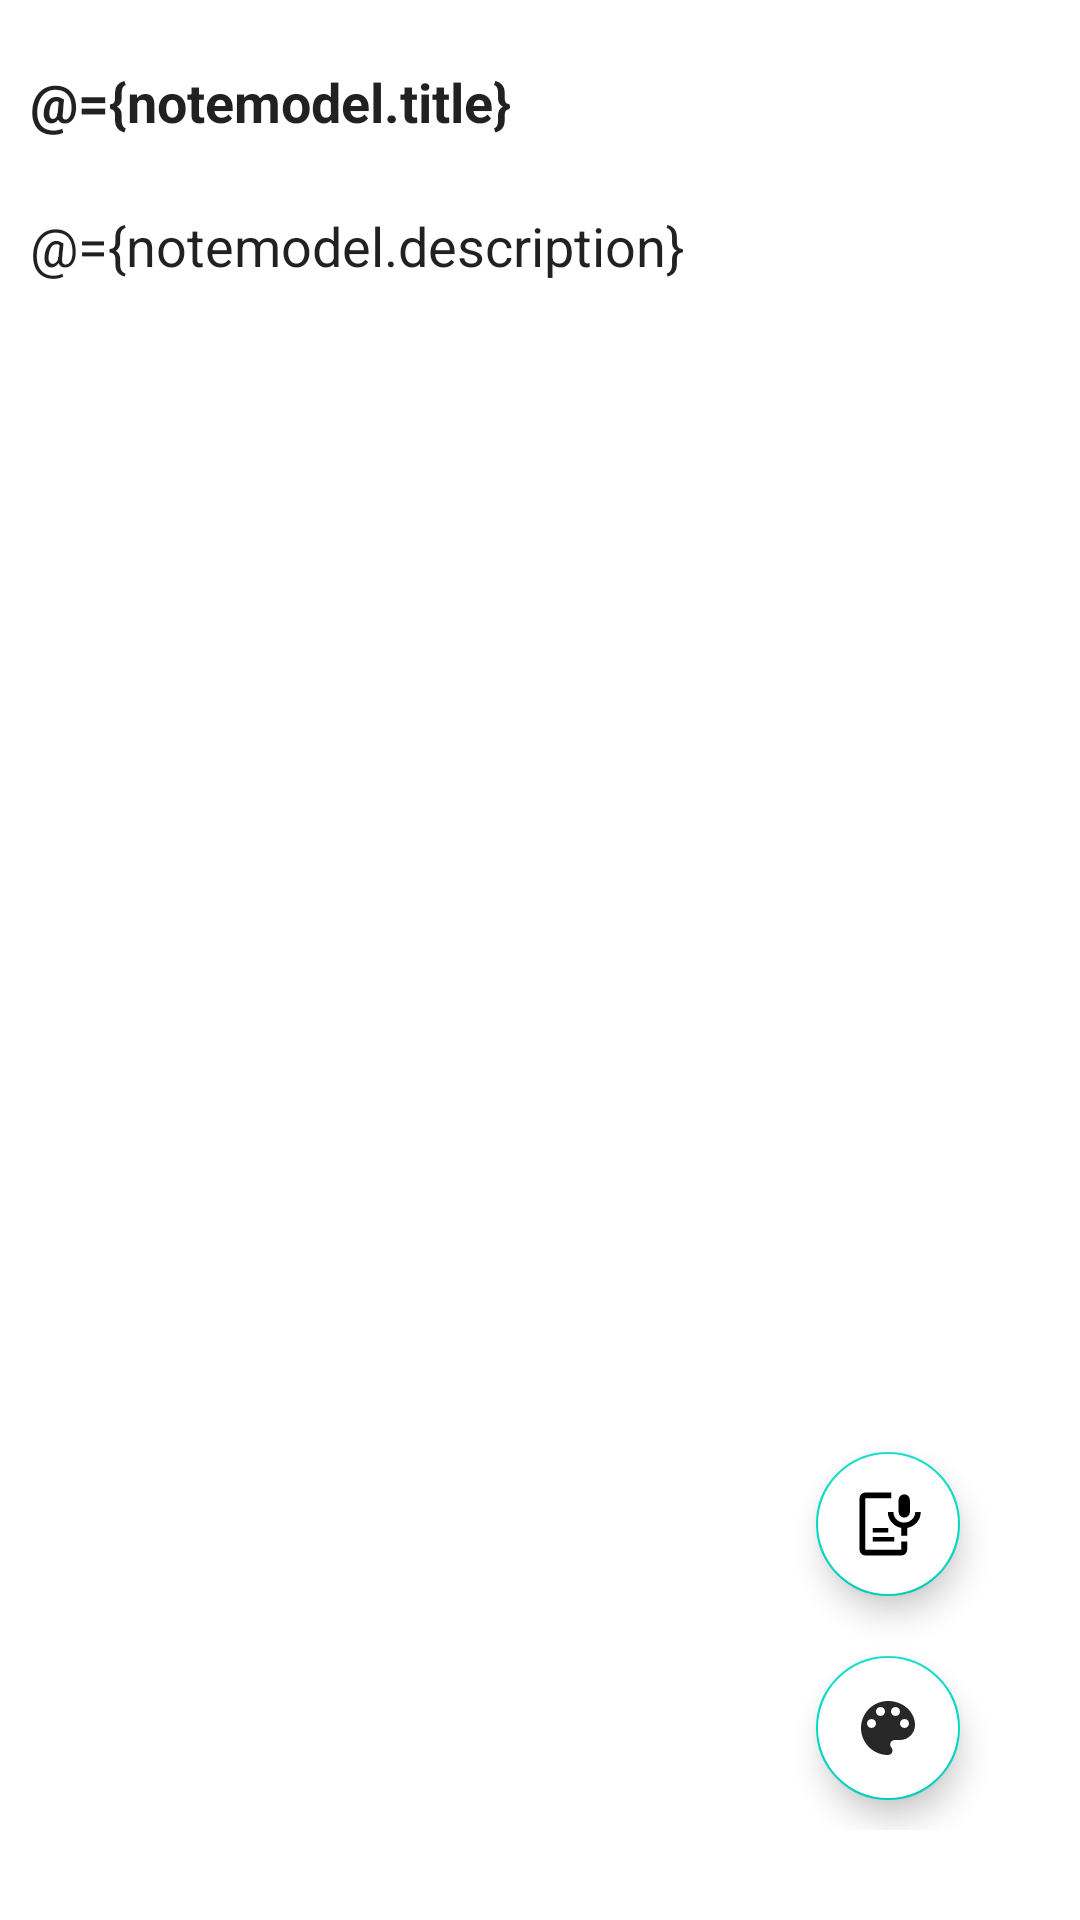

Screen size 1080x1920. Icon name, then its center in pixels as point (x, y):
palette: point (888, 1728)
speech: point (888, 1524)
